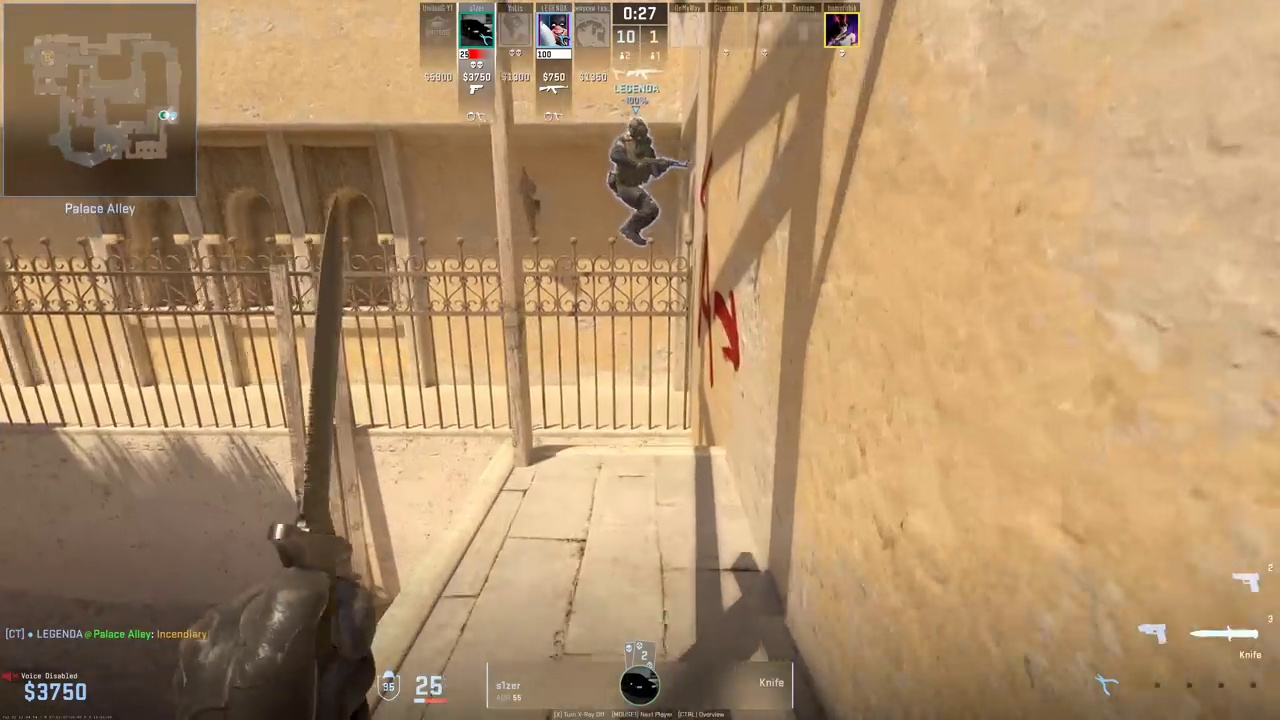CT: (610, 118, 660, 245)
